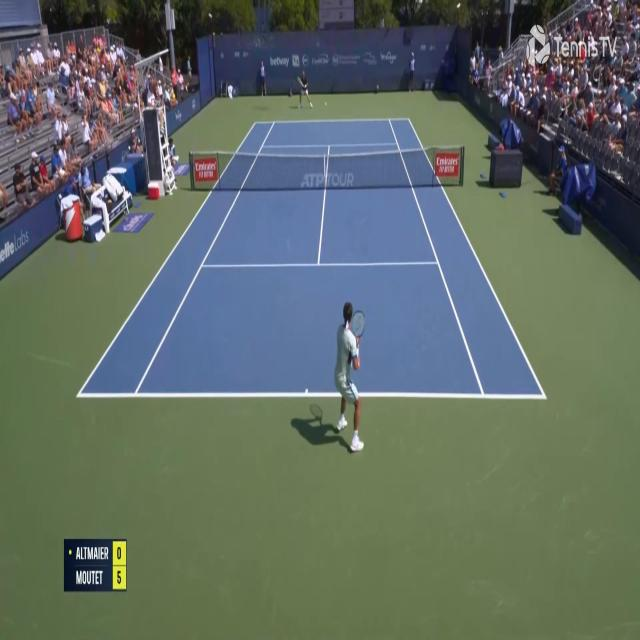tennis-player: (331, 299, 364, 455), (295, 68, 313, 110)
